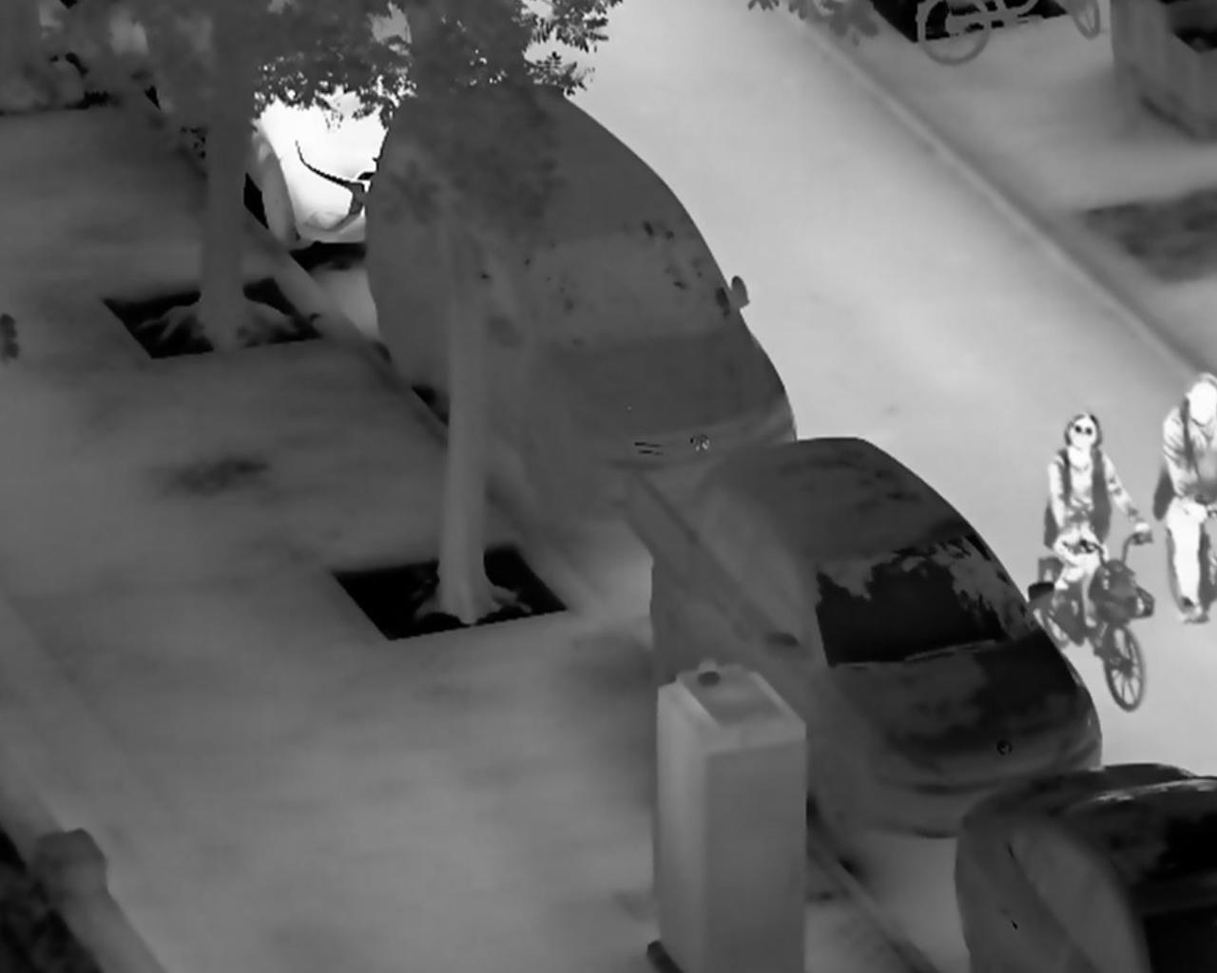person: (1041, 408, 1157, 647), (1155, 372, 1217, 629)
